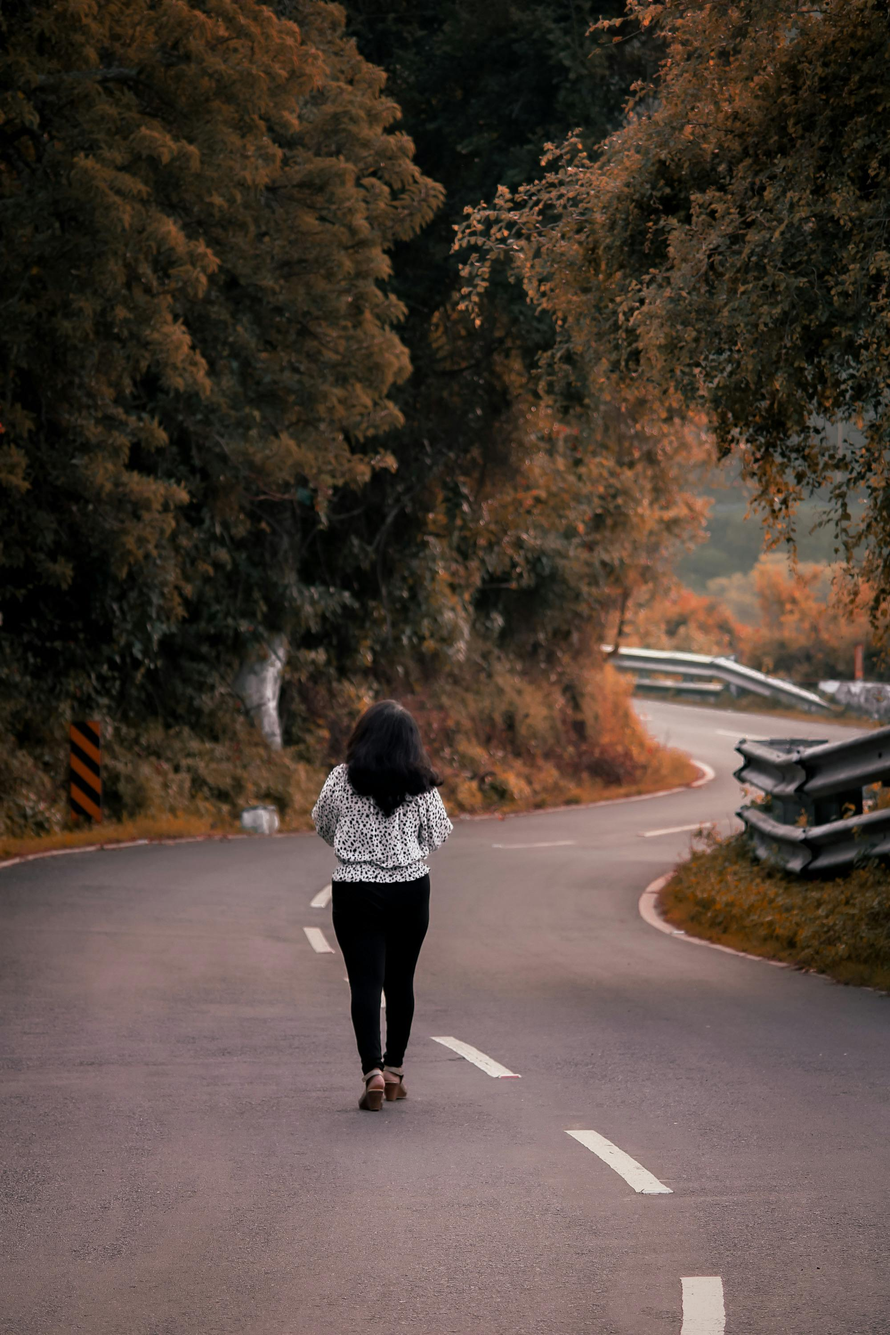Person: (305, 695, 463, 1117)
